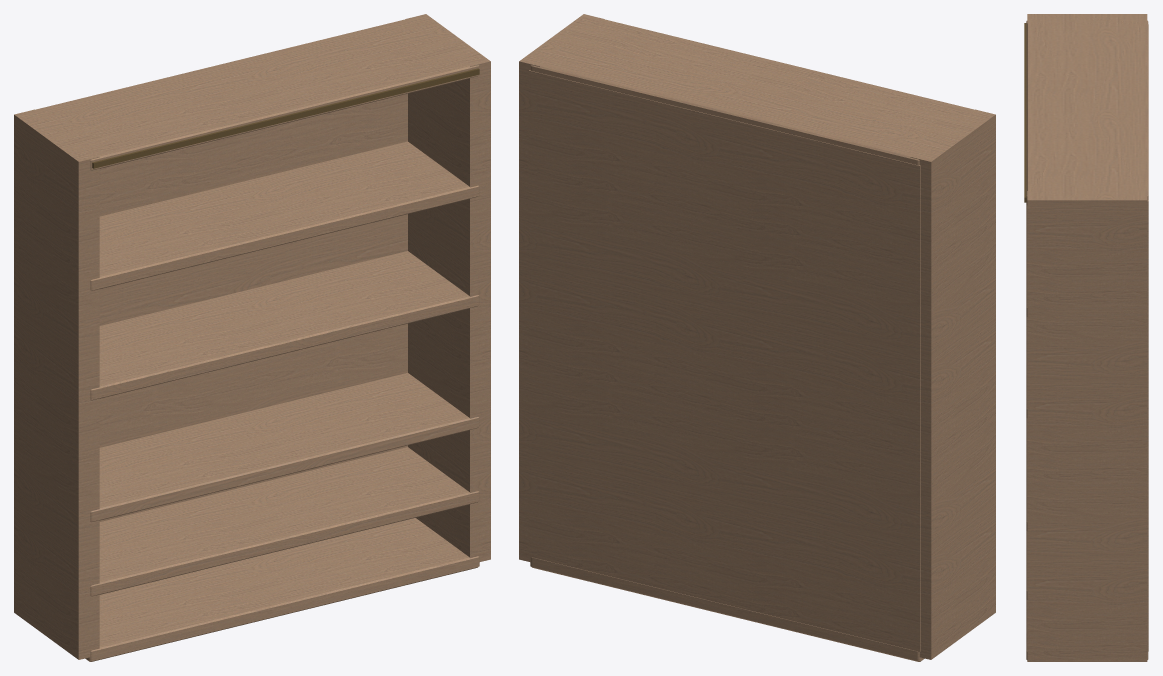
File: furn_com_rm_bookshelf_02.dae
The picture shows the model from 3 angles, left to right: view 1: azimuth 30°, elevation 25°; view 2: azimuth 150°, elevation 25°; view 3: azimuth 270°, elevation 25°; orthographic projection. The views are drawn at different scales.
Visible parts, largest first — view 1: oak, bronze; view 2: oak; view 3: oak, bronze.
Part boxes in pixels (x1,y1,x2,y2): oak: (14, 14, 490, 661); bronze: (92, 68, 479, 168); oak: (519, 14, 995, 661); oak: (1026, 14, 1148, 661); bronze: (1024, 23, 1026, 202).
Size of what is drawn, in the model's own units: 158 by 44.6 by 184.
